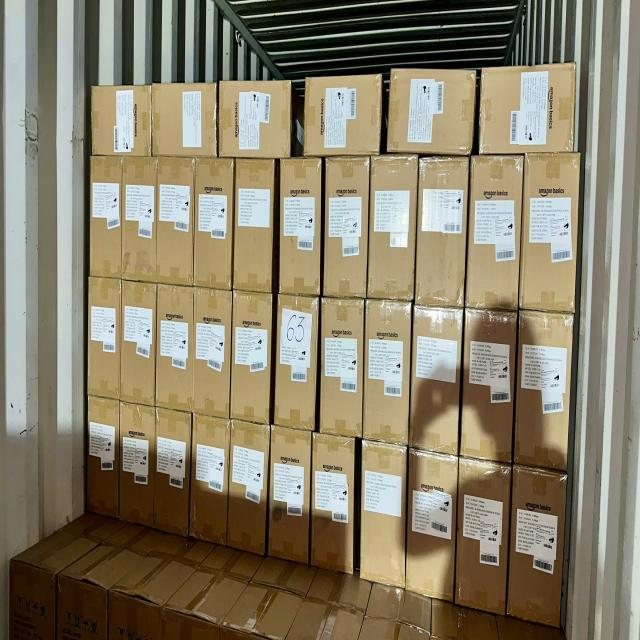Carton: (478, 60, 580, 158), (524, 152, 582, 310), (519, 308, 573, 470), (514, 468, 568, 630), (389, 66, 477, 159), (463, 309, 515, 464), (459, 461, 510, 619), (471, 156, 523, 310), (408, 453, 458, 606), (418, 157, 467, 307), (413, 306, 462, 453), (303, 72, 384, 157), (358, 444, 405, 587), (364, 301, 410, 445), (372, 157, 418, 299), (327, 158, 370, 302), (322, 299, 366, 437), (313, 436, 356, 574), (279, 160, 321, 300), (232, 159, 274, 297), (217, 82, 290, 161), (270, 429, 312, 565), (276, 296, 319, 428), (230, 295, 270, 427), (196, 159, 235, 290), (153, 85, 220, 161), (227, 426, 266, 556), (195, 290, 232, 419), (193, 414, 230, 543), (156, 158, 193, 286), (90, 83, 154, 156), (157, 407, 193, 534), (160, 286, 196, 412), (121, 403, 156, 527), (121, 284, 156, 407), (123, 158, 157, 282), (86, 276, 120, 399), (88, 156, 121, 278), (85, 400, 118, 521)
